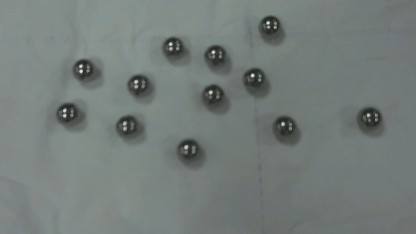ironball: (172, 137, 202, 165), (50, 98, 81, 125), (356, 105, 384, 133), (255, 12, 283, 40), (67, 57, 98, 81), (199, 82, 226, 108), (114, 110, 138, 139), (124, 73, 153, 97), (159, 34, 185, 60), (271, 114, 296, 140), (240, 67, 267, 91), (203, 43, 229, 66)
